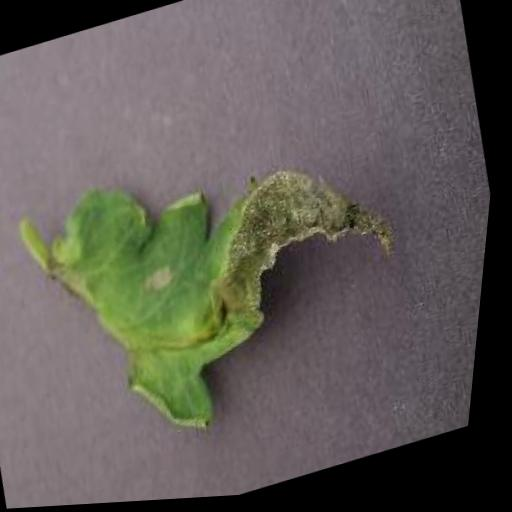Late Blight: (2, 104, 443, 481)
